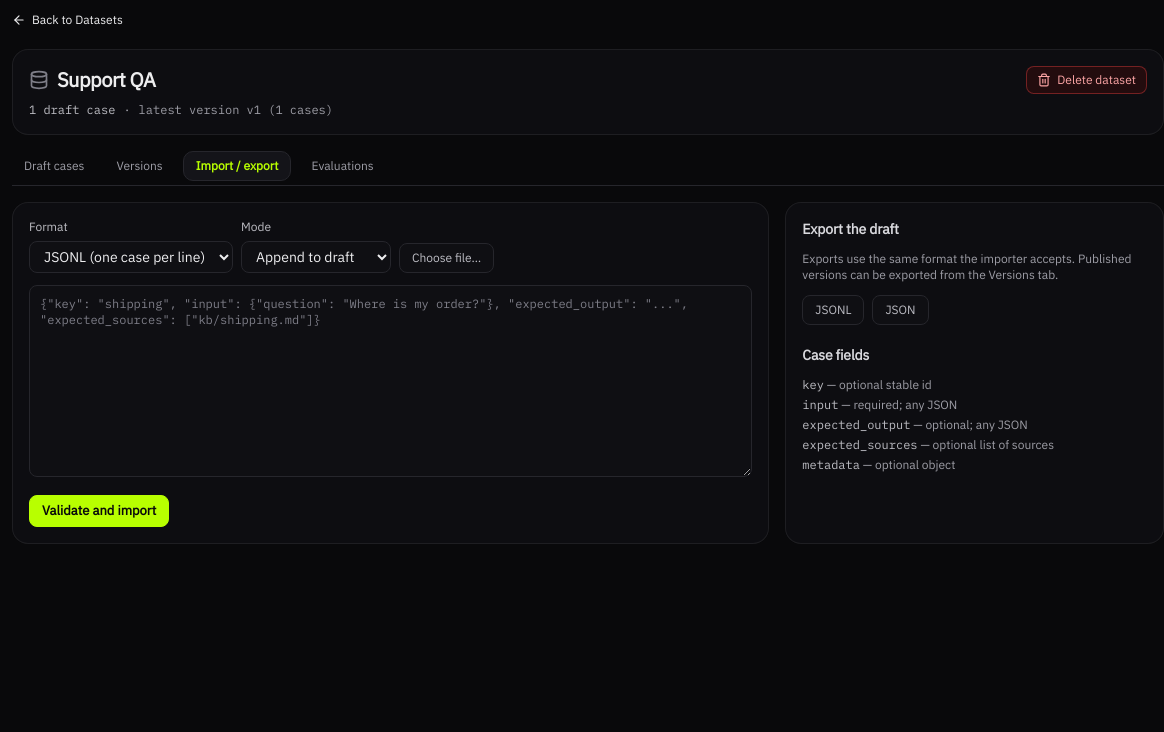
it: DatasetPage › shows every import problem with its line number
Type "x" into the text box named "Import content" at {"x": 391, "y": 381}, box [29,285,752,477]
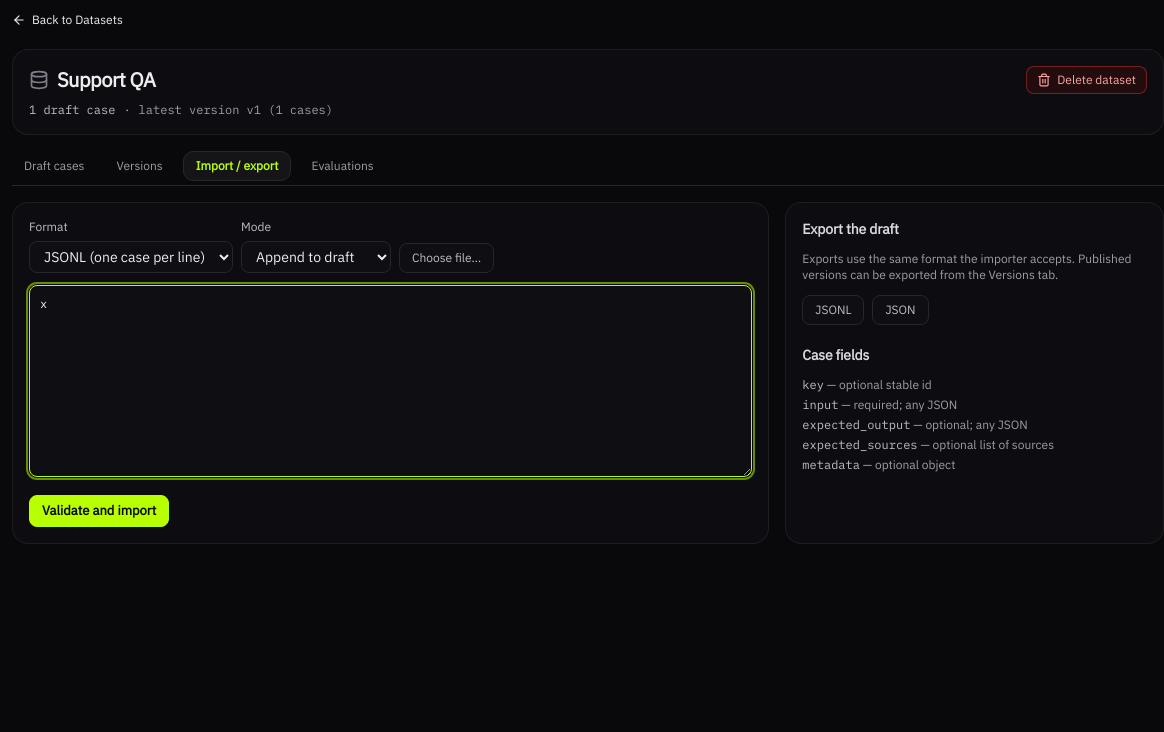
Click the button "Validate and import" at {"x": 99, "y": 511}, box [29,495,169,527]
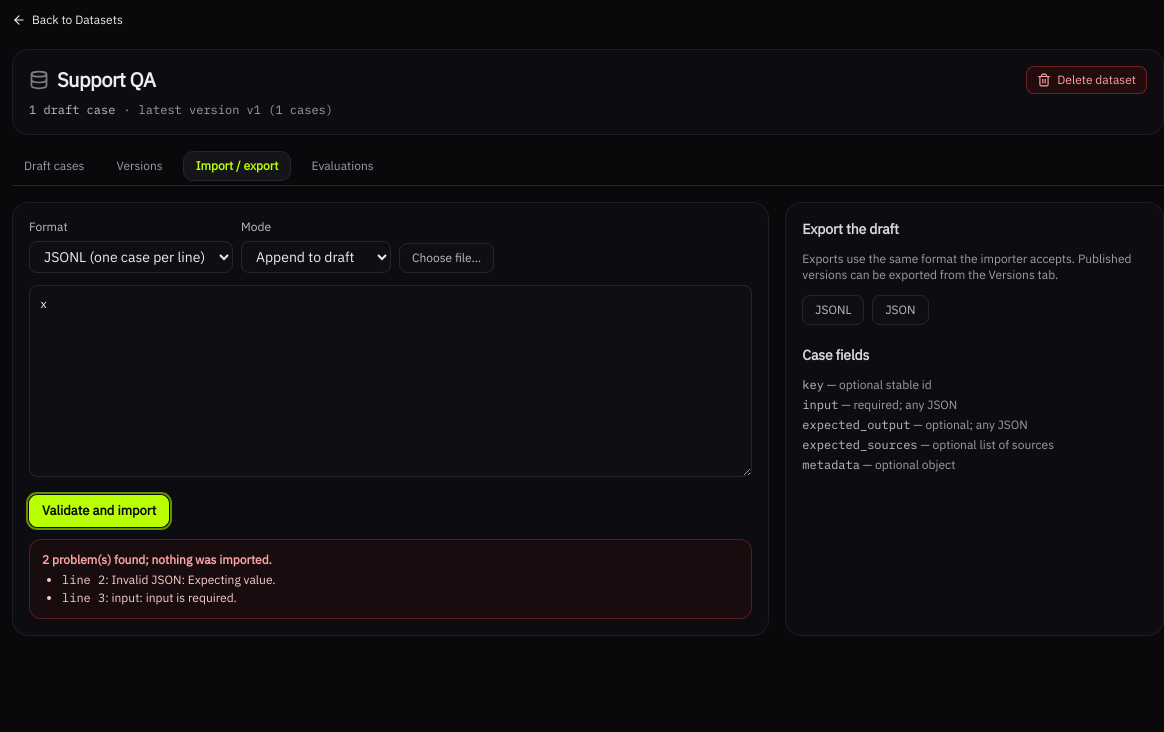
Expected: the message shows "nothing was imported", [42,552,272,567]
Expected: the message shows "line 2: Invalid JSON", [29,539,752,619]
Expected: the message shows "line 3: input: input is required.", [29,539,752,619]
